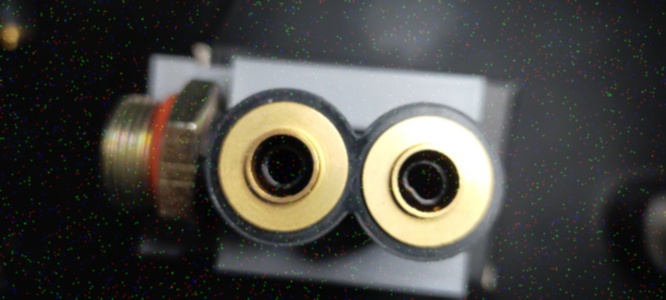off-centered: (400, 158, 451, 207)
